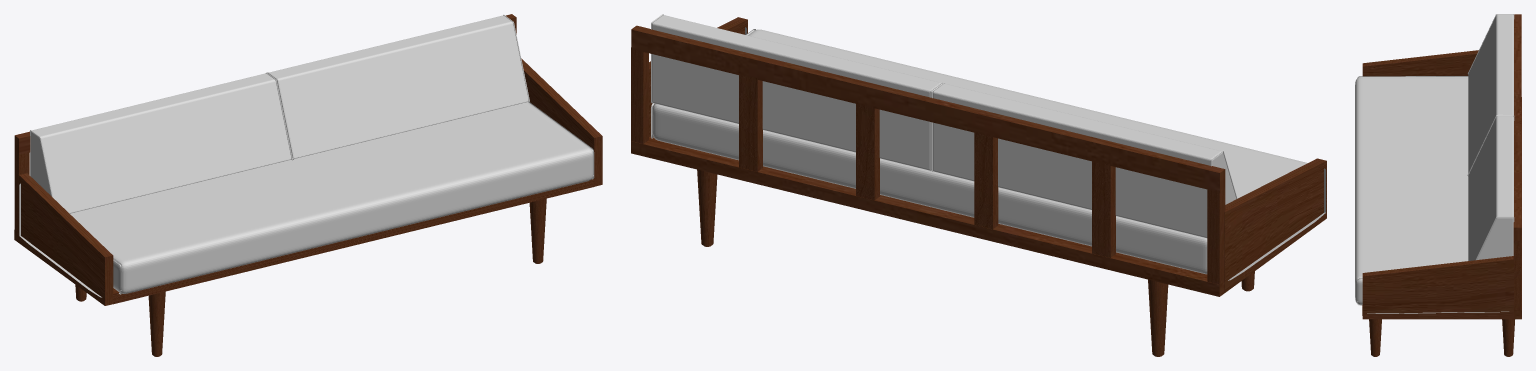
Rendered from execcc.glb.
3 renders of one model, left to right at view 1: azimuth 30°, elevation 25°; view 2: azimuth 150°, elevation 25°; view 3: azimuth 270°, elevation 25°, orthographic. The views are drawn at different scales.
Parts seen in each view (by area): view 1: Cube.015, Cylinder.001; view 2: Cube.015, Cylinder.001; view 3: Cube.015, Cylinder.001.
Part boxes in pixels (x1=…): Cube.015: x1=19, y1=14, x2=594, y2=297; Cylinder.001: x1=14, y1=14, x2=602, y2=356; Cube.015: x1=651, y1=14, x2=1325, y2=280; Cylinder.001: x1=631, y1=17, x2=1326, y2=356; Cube.015: x1=1355, y1=14, x2=1514, y2=313; Cylinder.001: x1=1362, y1=14, x2=1521, y2=356.
Size of the model in its own units: 9.48 by 3.22 by 3.08.
1 material, 1 textured.
